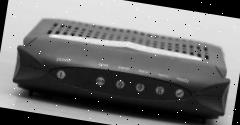electronic: (10, 11, 236, 125)
